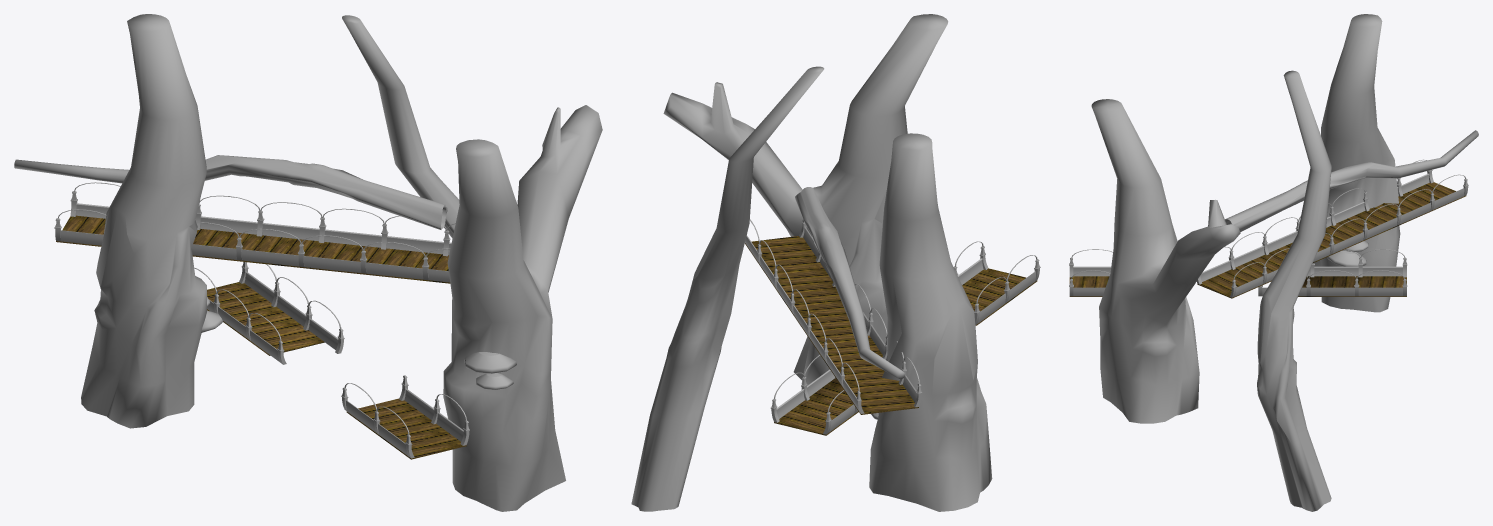
File: fairyland_straight_jump.fbx
3 views of the same model, side by side, from view 1: azimuth 30°, elevation 25°; view 2: azimuth 150°, elevation 25°; view 3: azimuth 270°, elevation 25° (orthographic). The views are drawn at different scales.
Parts seen in each view (by area): view 1: pCylinder27, pCylinder22, pCylinder25, pCube2, pCylinder26, pCube151, pCylinder17, pCube176, pCube175, pCube170, pCube172, pCube153 (+2 smaller); view 2: pCylinder22, pCylinder27, pCylinder26, pCube151, pCylinder25, pCube2; view 3: pCylinder27, pCylinder26, pCylinder22, pCube151, pCylinder25, pCube2, pCube61, pCylinder38.
Boxes of the visible parts, x1,y1,x2,y2 form: pCylinder27: [443, 105, 602, 511]; pCylinder22: [81, 14, 206, 428]; pCylinder25: [14, 155, 447, 229]; pCube2: [207, 282, 466, 459]; pCylinder26: [342, 15, 459, 238]; pCube151: [56, 215, 450, 283]; pCylinder17: [464, 352, 516, 373]; pCube176: [200, 216, 257, 234]; pCube175: [262, 223, 319, 241]; pCube170: [386, 236, 443, 254]; pCube172: [324, 229, 381, 247]; pCube153: [366, 262, 423, 279]; pCylinder22: [869, 133, 992, 511]; pCylinder27: [663, 14, 948, 385]; pCylinder26: [631, 66, 824, 511]; pCube151: [745, 236, 918, 414]; pCylinder25: [795, 187, 905, 379]; pCube2: [774, 268, 1037, 435]; pCylinder27: [1091, 99, 1240, 423]; pCylinder26: [1257, 70, 1331, 511]; pCylinder22: [1314, 14, 1400, 312]; pCube151: [1197, 182, 1465, 298]; pCylinder25: [1225, 130, 1478, 231]; pCube2: [1069, 276, 1406, 296]; pCube61: [1314, 266, 1358, 276]; pCylinder38: [1327, 250, 1366, 266].
Size of the model in its own units: 39.43 by 44.26 by 44.21.
